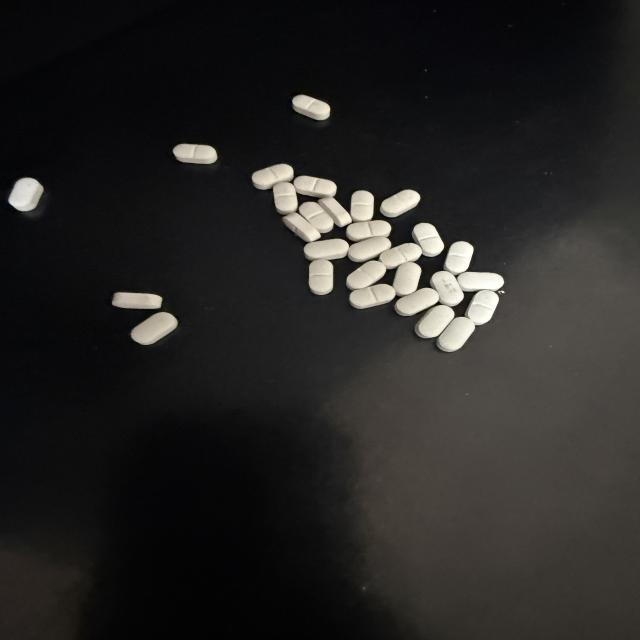pill: (131, 312, 177, 345), (437, 317, 475, 352), (415, 305, 454, 338), (8, 177, 44, 212), (395, 288, 439, 316), (465, 291, 499, 325), (347, 261, 386, 290), (431, 271, 463, 306), (379, 243, 422, 269), (350, 284, 395, 308), (380, 190, 420, 217), (348, 237, 391, 262), (283, 213, 320, 242), (412, 223, 444, 256), (299, 202, 333, 233), (252, 164, 293, 189), (444, 241, 473, 275), (319, 197, 351, 227), (393, 262, 421, 296), (292, 95, 330, 120), (293, 176, 336, 198), (304, 239, 348, 260), (457, 272, 504, 291), (347, 221, 391, 241), (112, 292, 162, 309), (309, 260, 333, 295), (173, 144, 217, 163), (273, 183, 297, 214), (351, 191, 373, 222)
